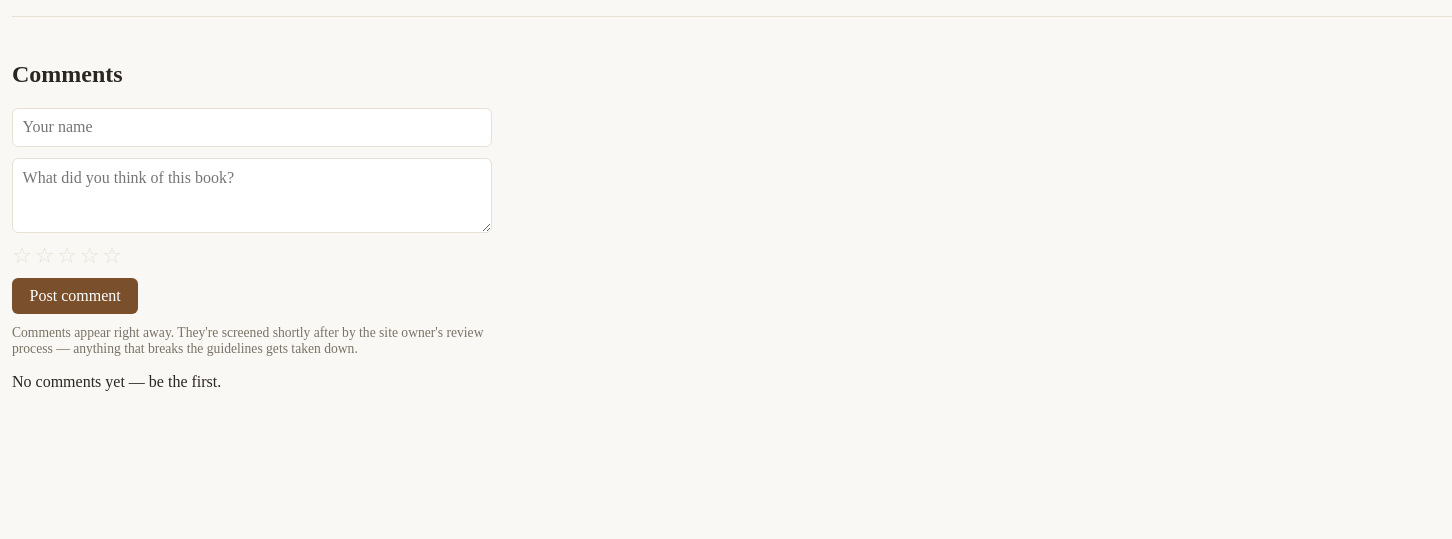
Test: CommentSection › posts a comment and refreshes the visible list
Expected: the text "No comments yet — be the first." is shown, [12,373,221,390]
Type "Bob" into the field with placeholder "Your name" at [252, 127], box [12,108,492,147]
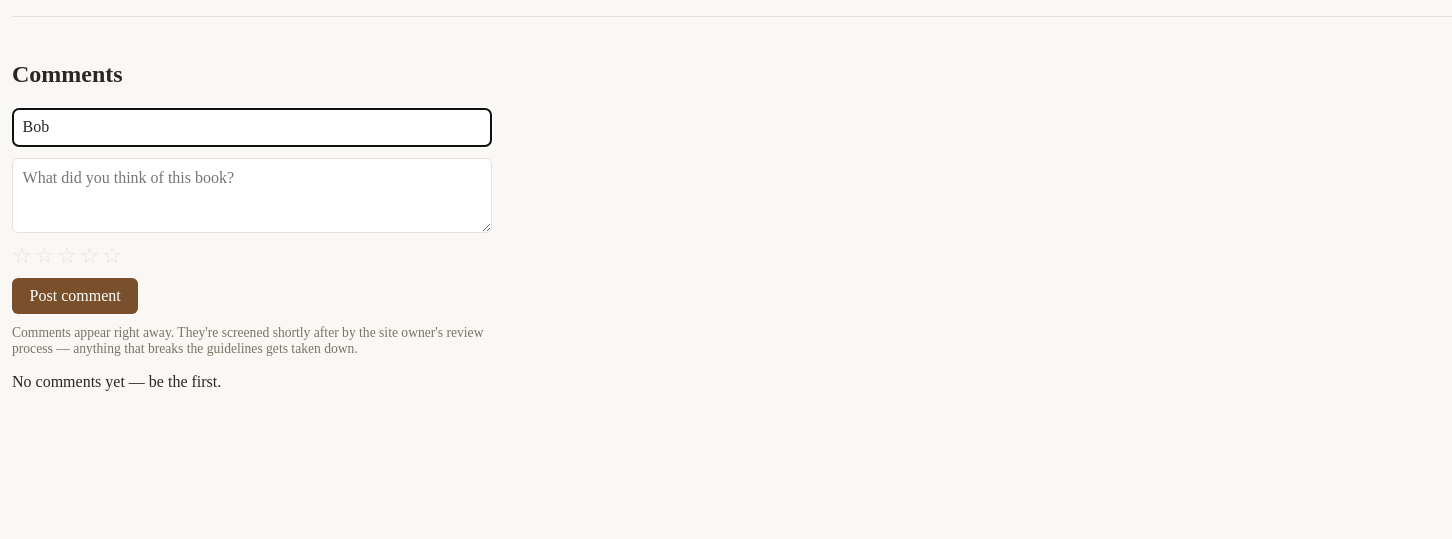
Type "Great read" into the text box with placeholder "What did you think of this book?" at [252, 196], box [12,158,492,233]
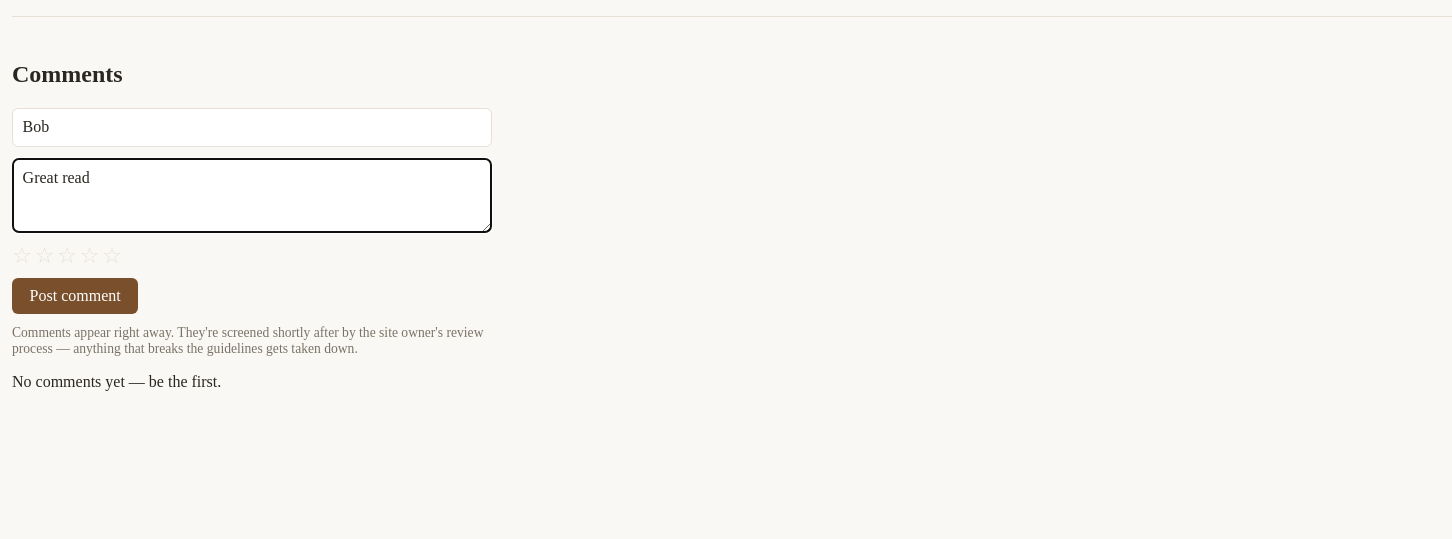
Click the button "Post comment" at [75, 296], box [12,278,138,314]
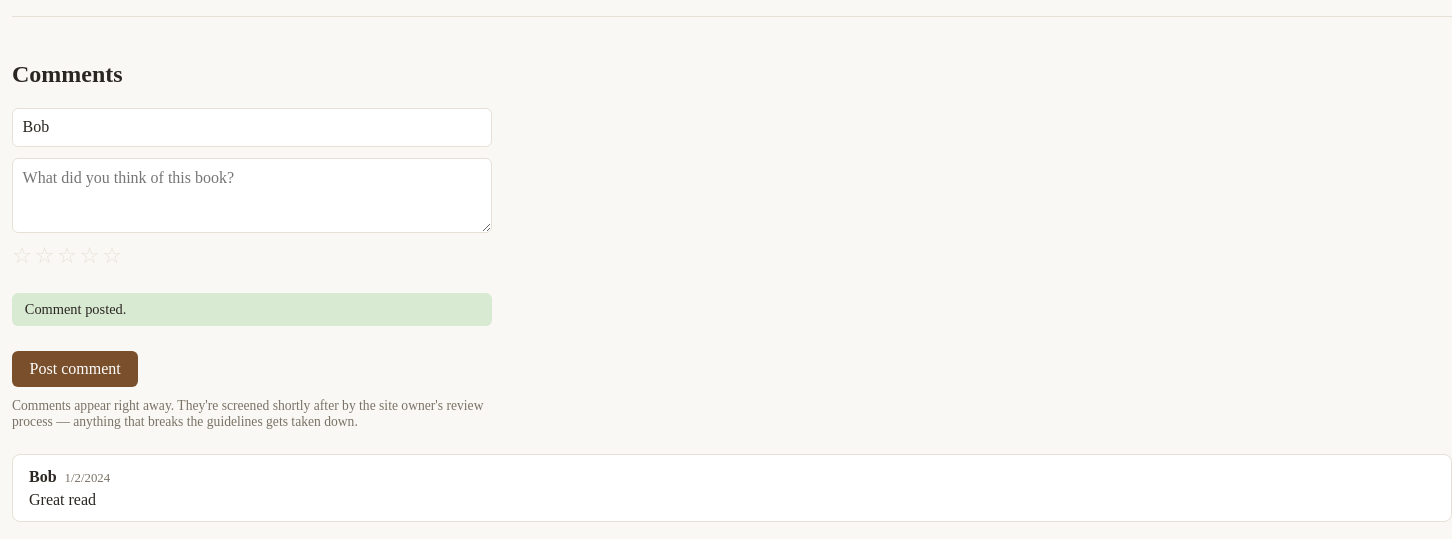
Now the text "Comment posted." is shown, box [12,292,492,326]
Now the text "Great read" is shown, box [29,490,96,508]
